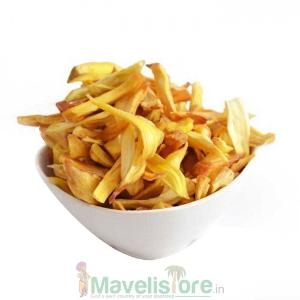fries_350cal: (25, 57, 276, 205)
